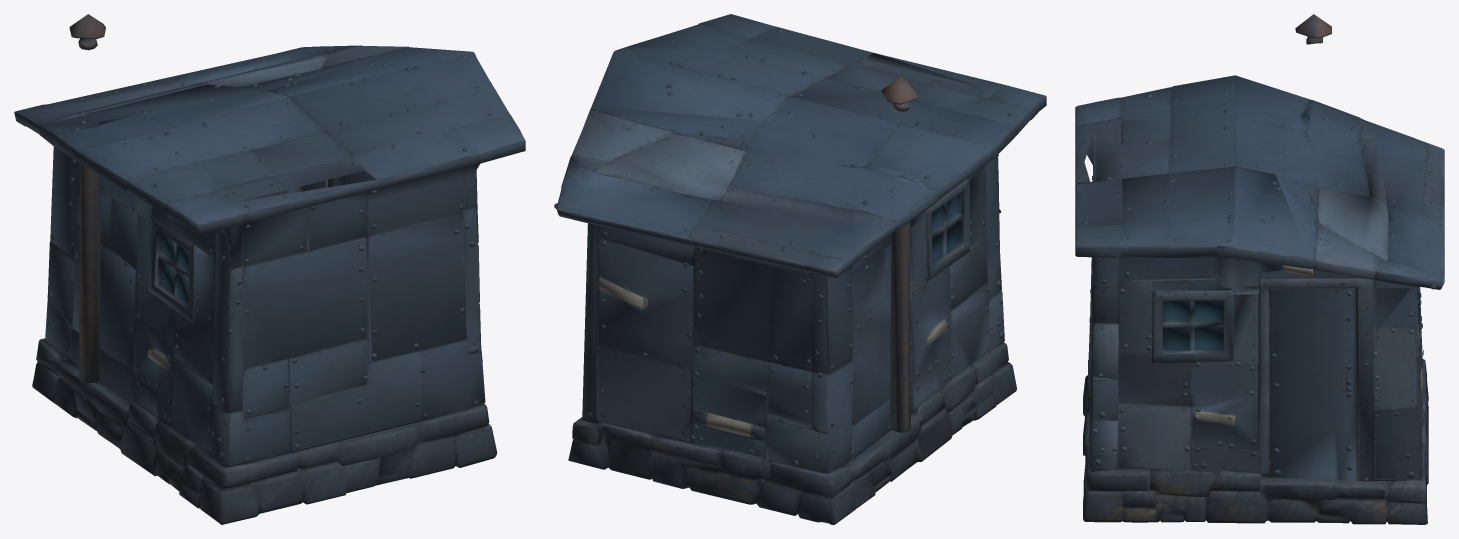
File: hut-lp.glb
The picture shows the model from 3 angles, left to right: view 1: azimuth 30°, elevation 25°; view 2: azimuth 150°, elevation 25°; view 3: azimuth 270°, elevation 25°; orthographic projection. The views are drawn at different scales.
Visible parts, largest first — view 1: tripo_node_a62e67a6-20d4-4898-a55d-6939fa38eb63; view 2: tripo_node_a62e67a6-20d4-4898-a55d-6939fa38eb63; view 3: tripo_node_a62e67a6-20d4-4898-a55d-6939fa38eb63.
Boxes of the visible parts, box(x1,y1,x2,y2) form: tripo_node_a62e67a6-20d4-4898-a55d-6939fa38eb63: box(14, 14, 525, 524); tripo_node_a62e67a6-20d4-4898-a55d-6939fa38eb63: box(554, 14, 1046, 524); tripo_node_a62e67a6-20d4-4898-a55d-6939fa38eb63: box(1075, 14, 1444, 524).
Size of the model in its own units: 2.44 by 2.5 by 2.17.
Materials: 1 (1 with a texture image).
